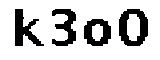0: (116, 4, 149, 48)
3: (47, 2, 78, 51)
k: (11, 5, 44, 50)
o: (82, 17, 113, 48)
